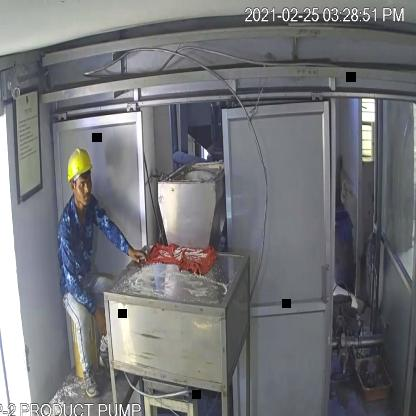helmet: (65, 143, 99, 188)
